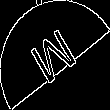M_SE: (26, 21, 84, 89)
